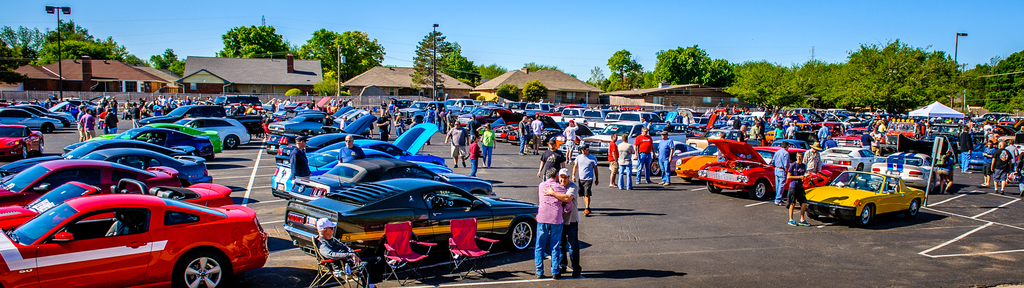Car: (0, 98, 1008, 287), (0, 194, 266, 287)
